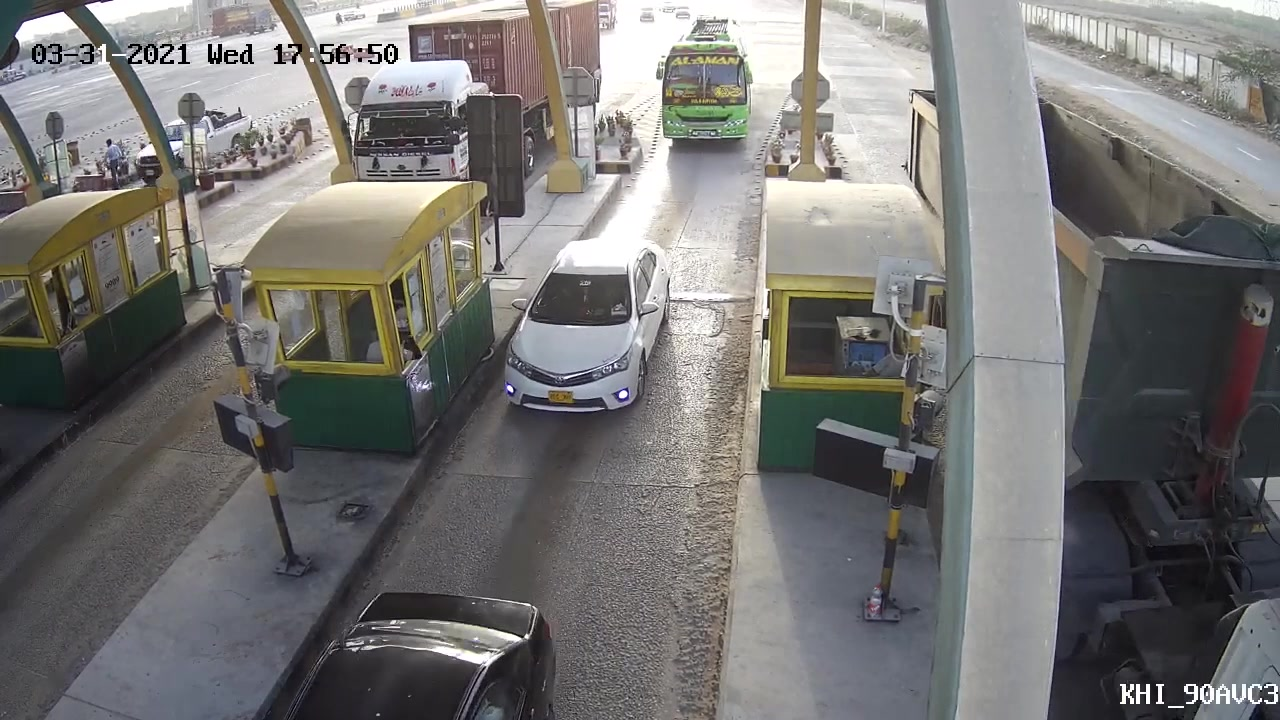F1: (497, 231, 680, 422)
